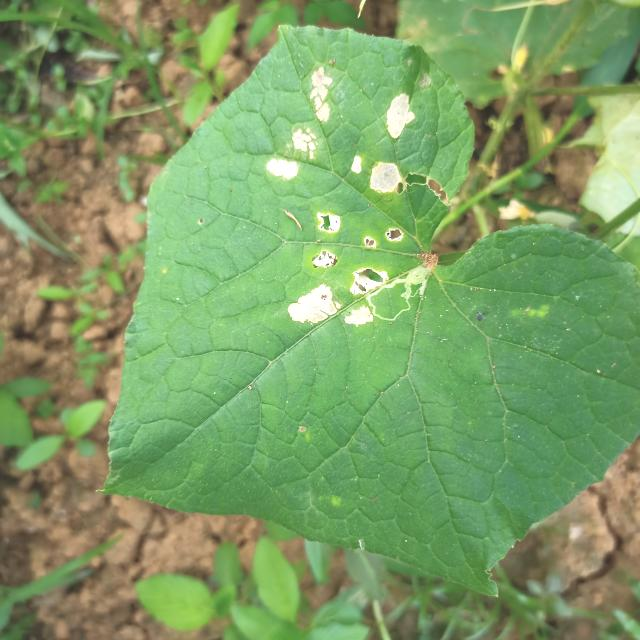disease_cucumber: (266, 67, 416, 332)
